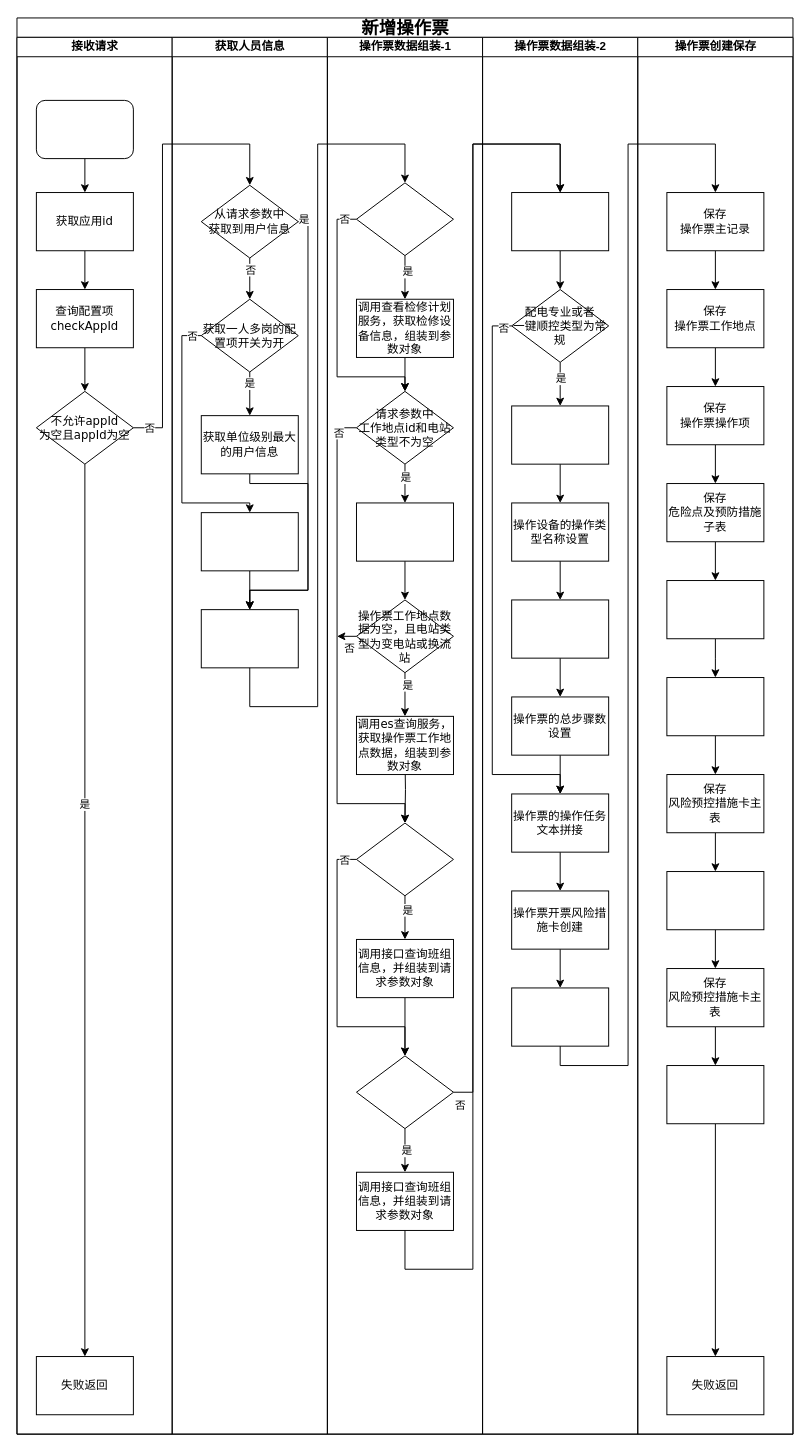
The diagram is 810 pixels wide and 1451 high, and some of its shapes have lost their labels. Here are the shapes that lost their labels. From the top down, the centre of each, then its label:
At pixel 84 129: "开始".
At pixel 404 219: "请求参数中 检修计划id不为空".
At pixel 560 221: "根据专业类型 设置票名称和操作票种类".
At pixel 560 434: "调度令序号设置".
At pixel 249 541: "调用接口获取 当前用户信息".
At pixel 404 531: "调用查询电网设备台账列表服务，获取操作票工作地点数据，组装到参数对象".
At pixel 560 628: "操作票操作项的调度指令号设置".
At pixel 715 609: "保存 操作票-关联设备子表".
At pixel 249 638: "给创建操作票的参数对象赋值用户信息".
At pixel 715 706: "保存 风险定级表".
At pixel 404 859: "请求参数有维护班组ID但没有维护班组名称".
At pixel 715 900: "防误云开票调用停电操作接口绑定令与票的关系".
At pixel 560 1016: "操作票字段设置默认值".
At pixel 404 1092: "请求参数有运维单位ID但没有运维单位名称".
At pixel 715 1094: "保存 两篇流程记录表".
